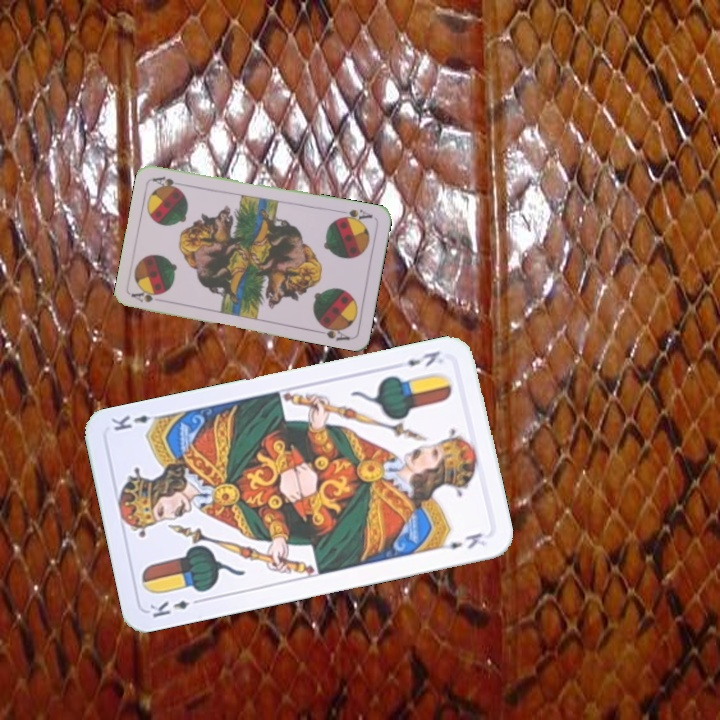EK: (145, 594, 205, 620), (402, 346, 443, 370)
SA: (335, 205, 375, 225), (128, 287, 164, 305)
